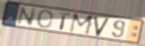9: (111, 20, 127, 40)
M: (68, 13, 95, 36)
N: (16, 6, 38, 27)
O: (37, 9, 54, 29)
T: (58, 11, 72, 32)
V: (93, 16, 110, 38)
